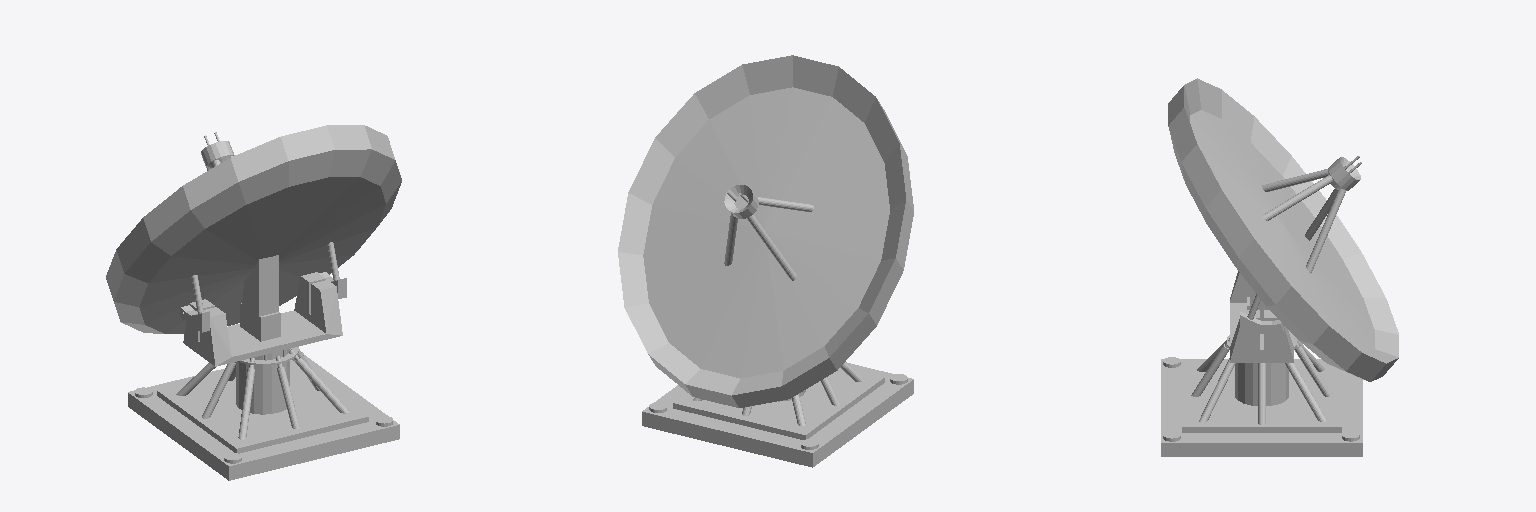
Rendered from Antena.obj.
3 views of the same model, side by side, from view 1: azimuth 30°, elevation 25°; view 2: azimuth 150°, elevation 25°; view 3: azimuth 270°, elevation 25° (orthographic).
Parts seen in each view (by area): view 1: m, Box001, Box002, Cylinder001; view 2: m, Box001, Cylinder001; view 3: m, Box001, Cylinder001, Box002.
Part boxes in pixels (x1,y1,x2,y2): m: (106,125,401,333); Box001: (128,352,399,480); Box002: (179,242,346,366); Cylinder001: (176,347,349,439); m: (618,55,913,407); Box001: (642,363,913,467); Cylinder001: (693,362,864,425); m: (1168,78,1398,381); Box001: (1161,357,1362,456); Cylinder001: (1191,335,1332,424); Box002: (1230,271,1293,362).
Size of the model in its own units: 48.77 by 55.78 by 37.72.